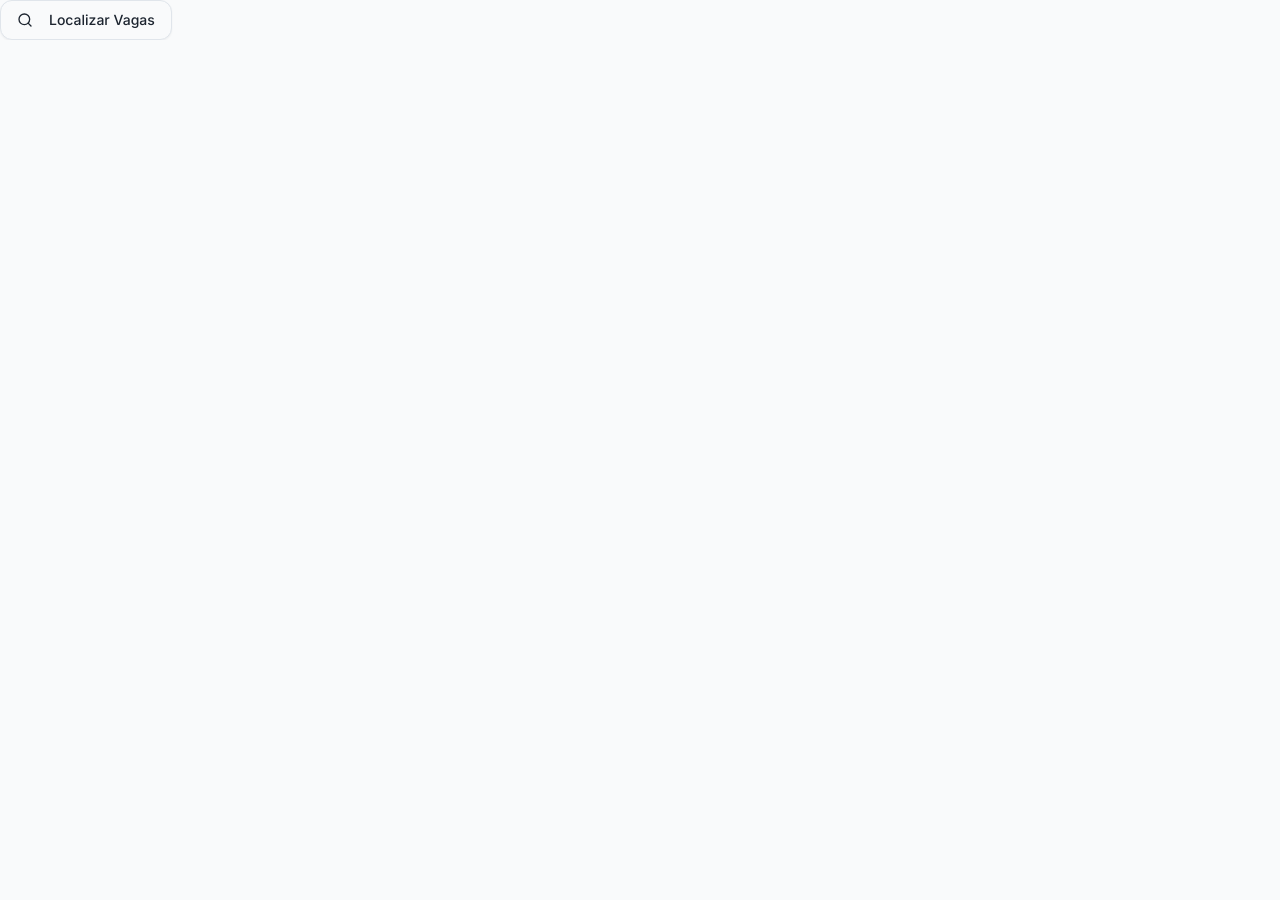
LocalizarVagasPanel (integração) › erro na Agenda = Disponibilidade não confirmada, nunca Sem vaga
The width and height of the screenshot is (1280, 900).
Click the button "Localizar Vagas".
click(86, 20)  # box x1=0 y1=0 x2=172 y2=40
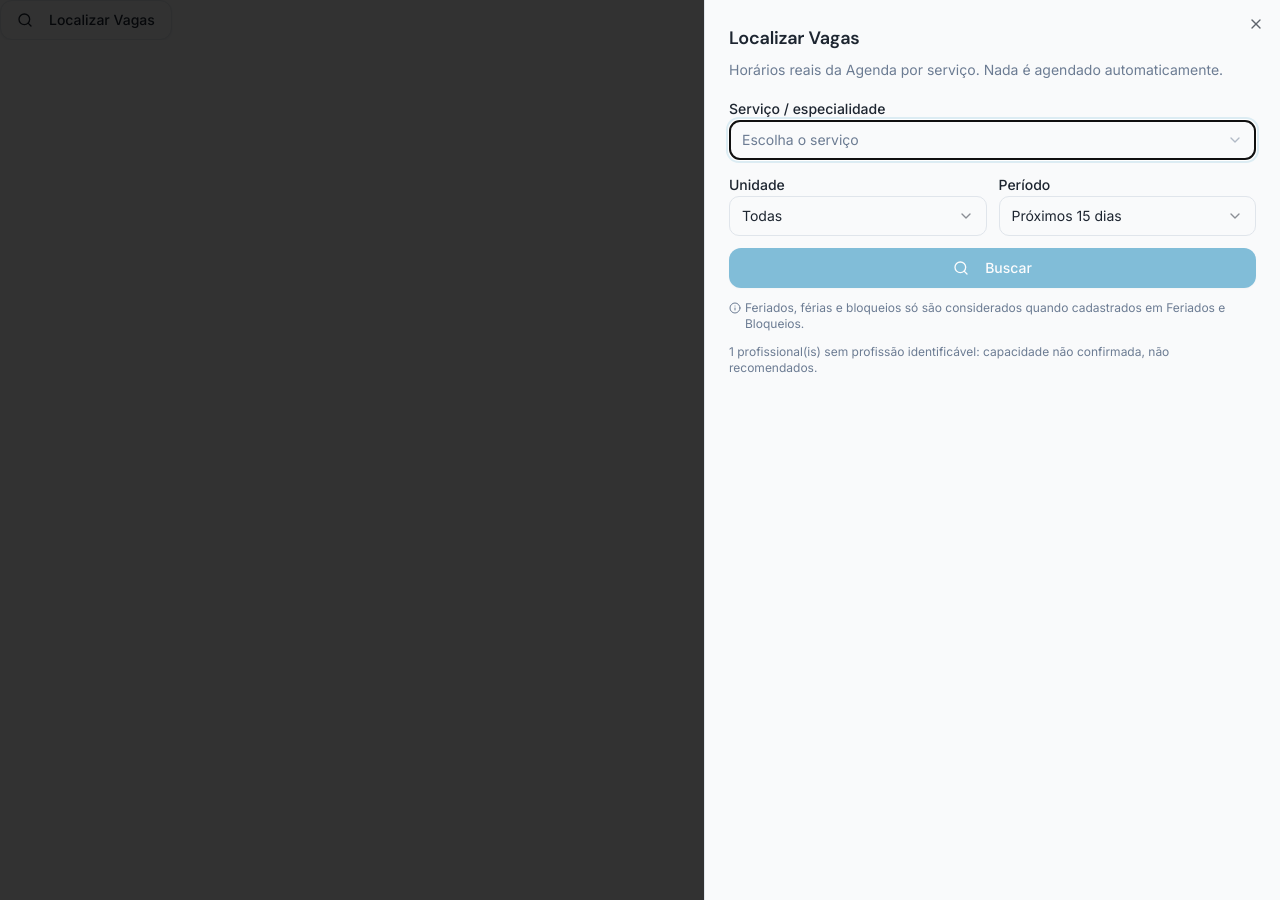
Click the dropdown labelled "Escolha o serviço".
click(800, 140)  # box x1=729 y1=120 x2=1256 y2=160
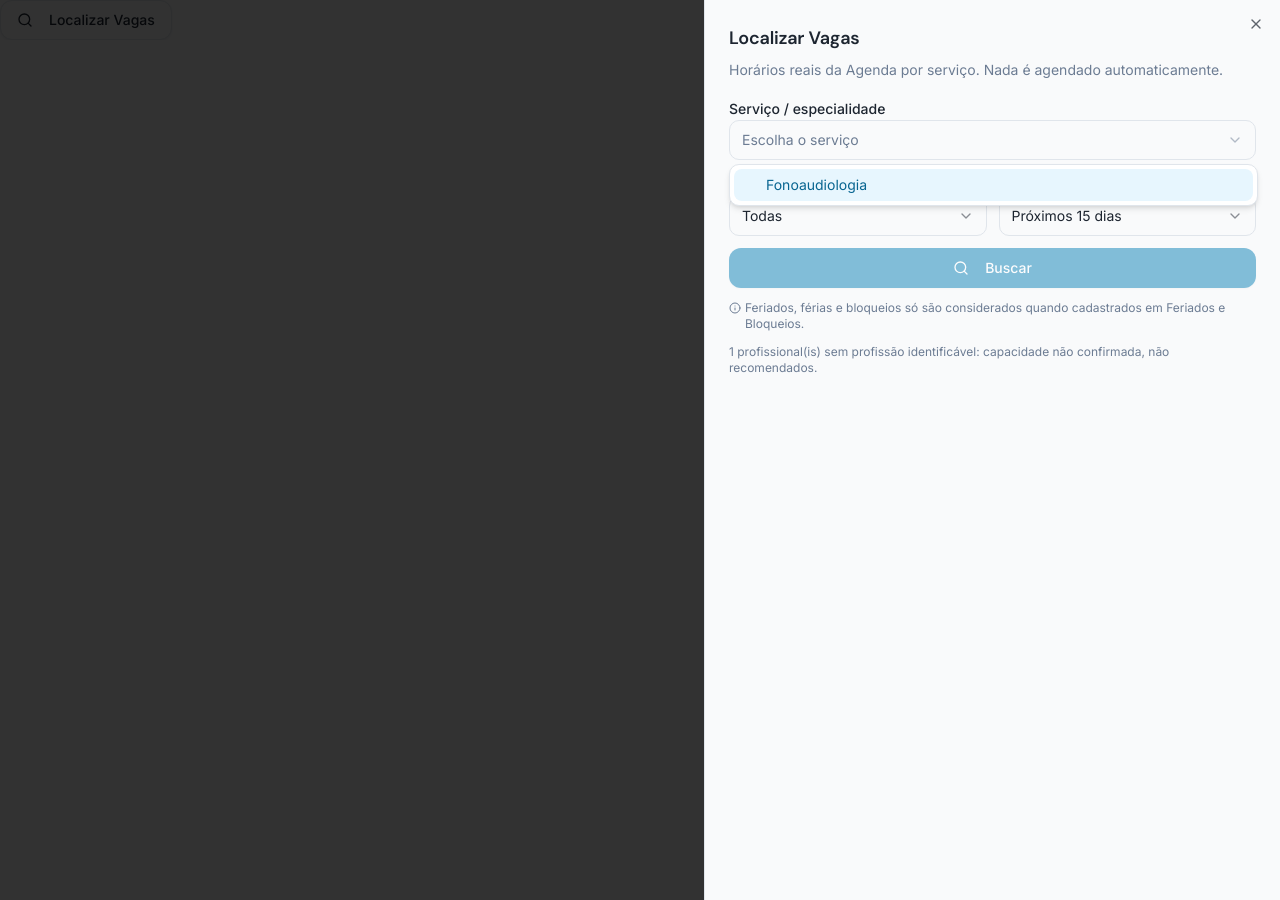
Click the option "Fonoaudiologia".
click(817, 184)  # box x1=734 y1=169 x2=1253 y2=201
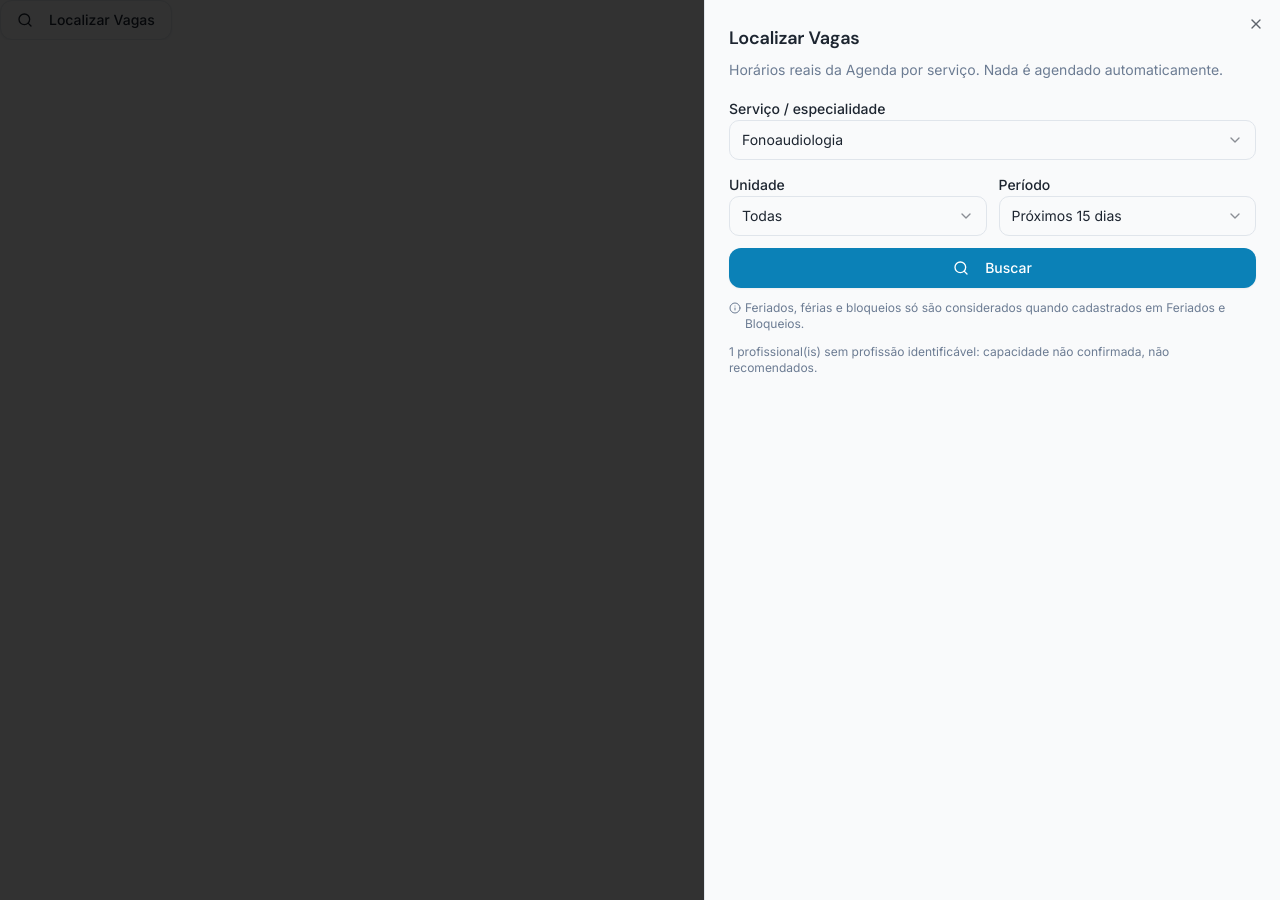
Click the button "Buscar".
click(992, 268)  # box x1=729 y1=248 x2=1256 y2=288
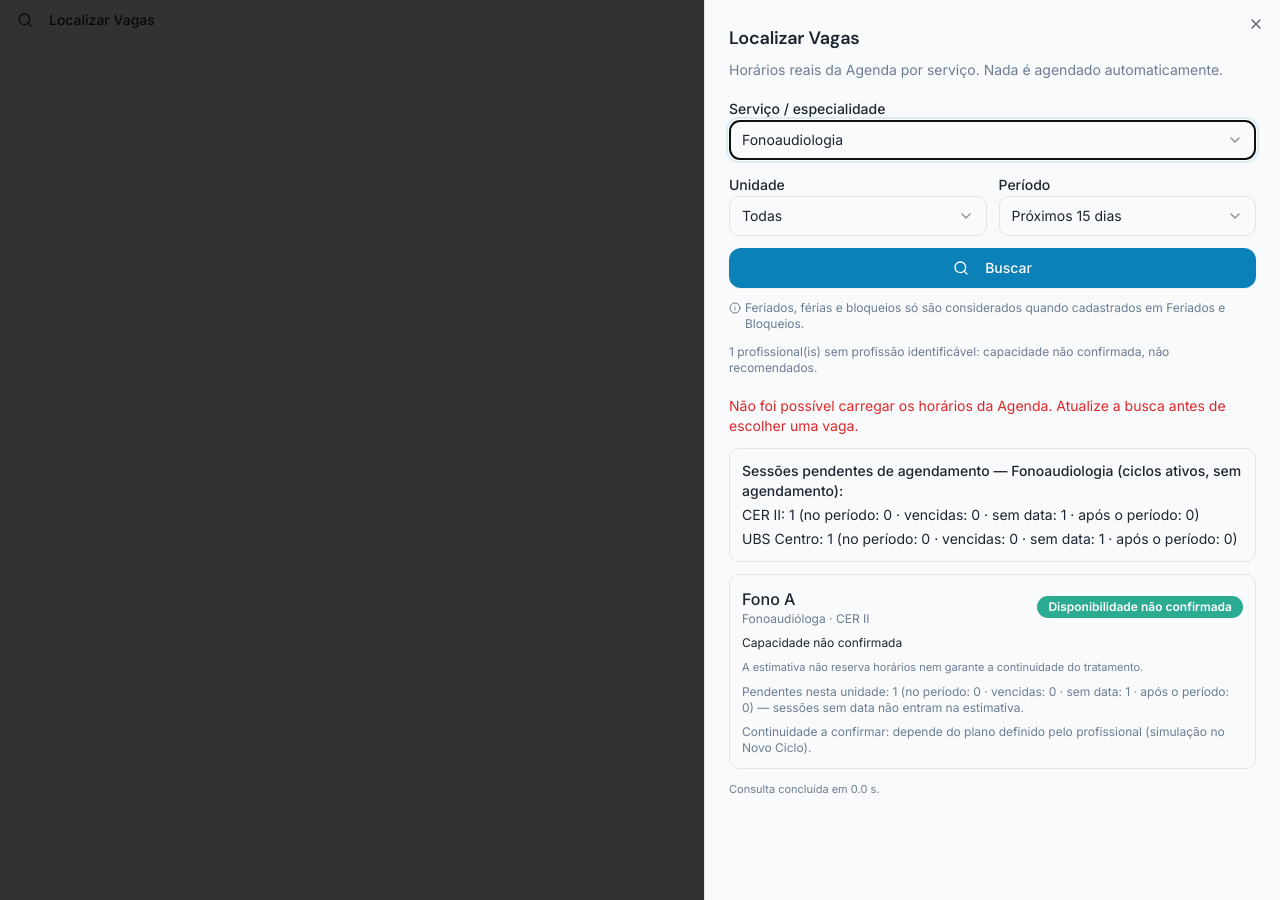
Result: the text "Disponibilidade não confirmada" is shown at x1=1037 y1=596 x2=1243 y2=618
